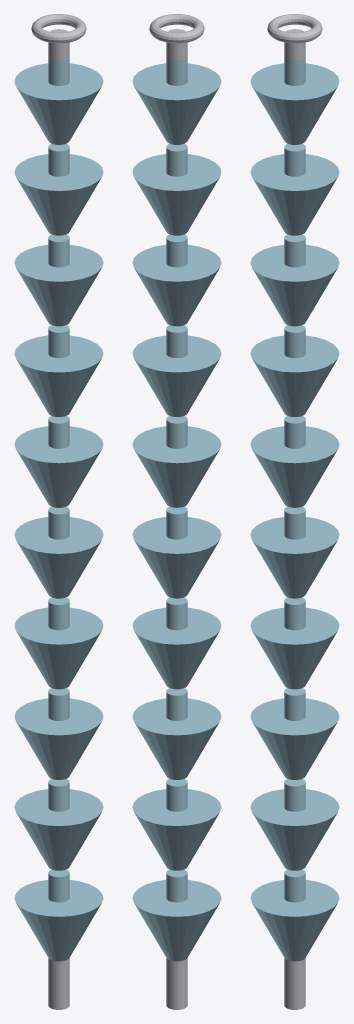
Rendered from Cadena_1215mm.fbx.
The picture shows the model from 3 angles, left to right: view 1: azimuth 90°, elevation 25°; view 2: azimuth 150°, elevation 25°; view 3: azimuth 270°, elevation 25°; orthographic projection.
Visible parts, largest first — view 1: Cadena_1215mm; view 2: Cadena_1215mm; view 3: Cadena_1215mm.
Boxes of the visible parts, x1,y1,x2,y2 form: Cadena_1215mm: (14, 14, 103, 1009); Cadena_1215mm: (132, 14, 221, 1009); Cadena_1215mm: (250, 14, 339, 1009).
Size of the model in its own units: 10 by 121 by 10.
